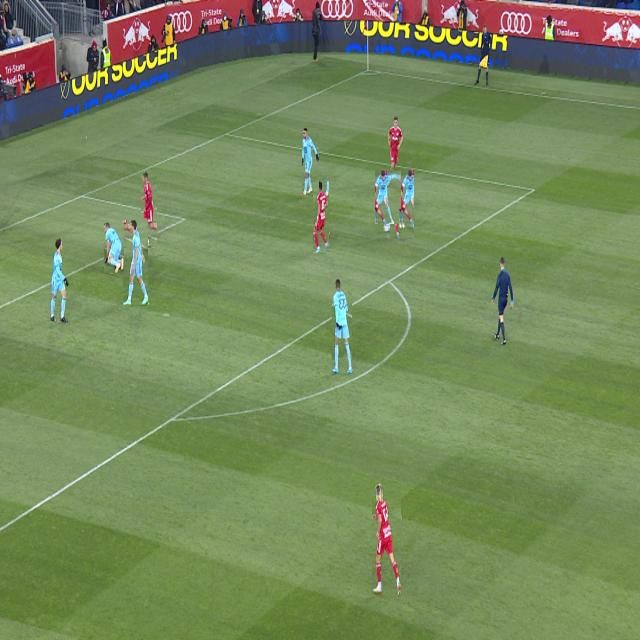football: (383, 223, 391, 231)
player: (373, 484, 401, 597), (124, 220, 148, 305), (333, 279, 352, 374), (390, 169, 414, 239), (51, 238, 68, 323), (376, 170, 401, 224), (141, 172, 157, 247), (302, 129, 319, 195), (314, 182, 329, 253), (104, 223, 124, 273), (388, 116, 403, 175), (399, 209, 402, 228), (388, 182, 390, 186), (135, 228, 136, 230)
referee: (492, 257, 514, 344)
